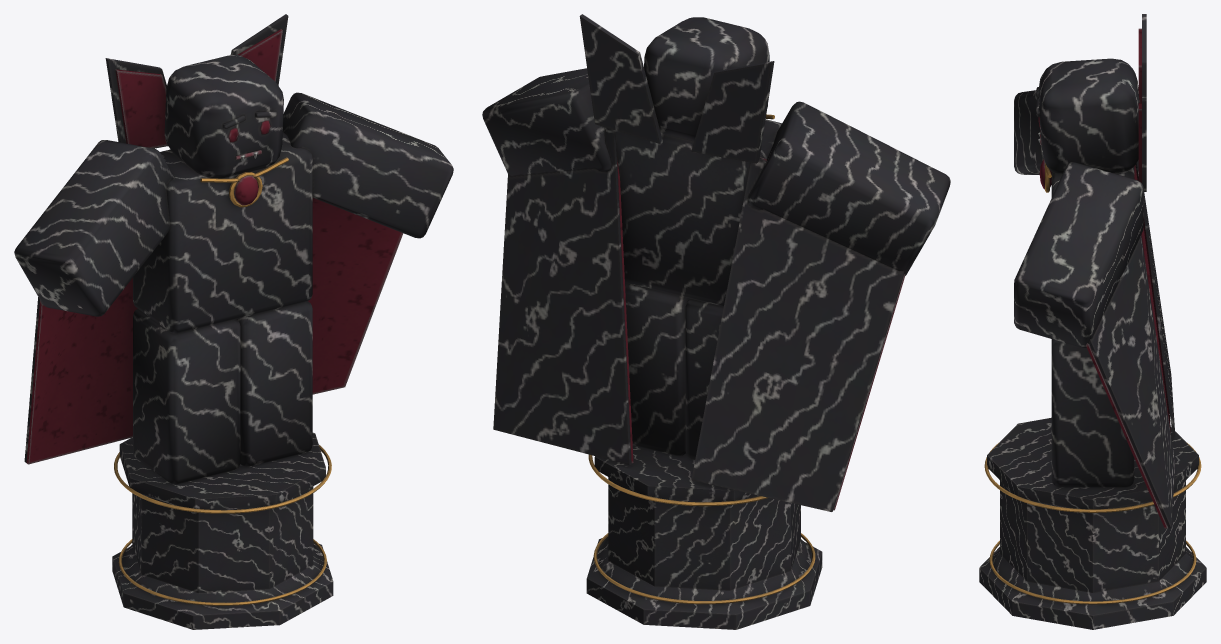
File: VampireLord.fbx
3 renders of one model, left to right at view 1: azimuth 30°, elevation 25°; view 2: azimuth 150°, elevation 25°; view 3: azimuth 270°, elevation 25°, orthographic. The views are drawn at different scales.
Parts seen in each view (by area): view 1: VampireLord_Figure, VampireLord_Main; view 2: VampireLord_Figure, VampireLord_Main; view 3: VampireLord_Figure, VampireLord_Main.
Boxes of the visible parts, <box> form: VampireLord_Figure: <box>14,14,453,484</box>; VampireLord_Main: <box>112,432,333,629</box>; VampireLord_Figure: <box>482,14,950,511</box>; VampireLord_Main: <box>586,445,822,629</box>; VampireLord_Figure: <box>1014,14,1175,528</box>; VampireLord_Main: <box>979,417,1206,629</box>.
Bounding box in the file's own units: 939 × 1118 × 440.
